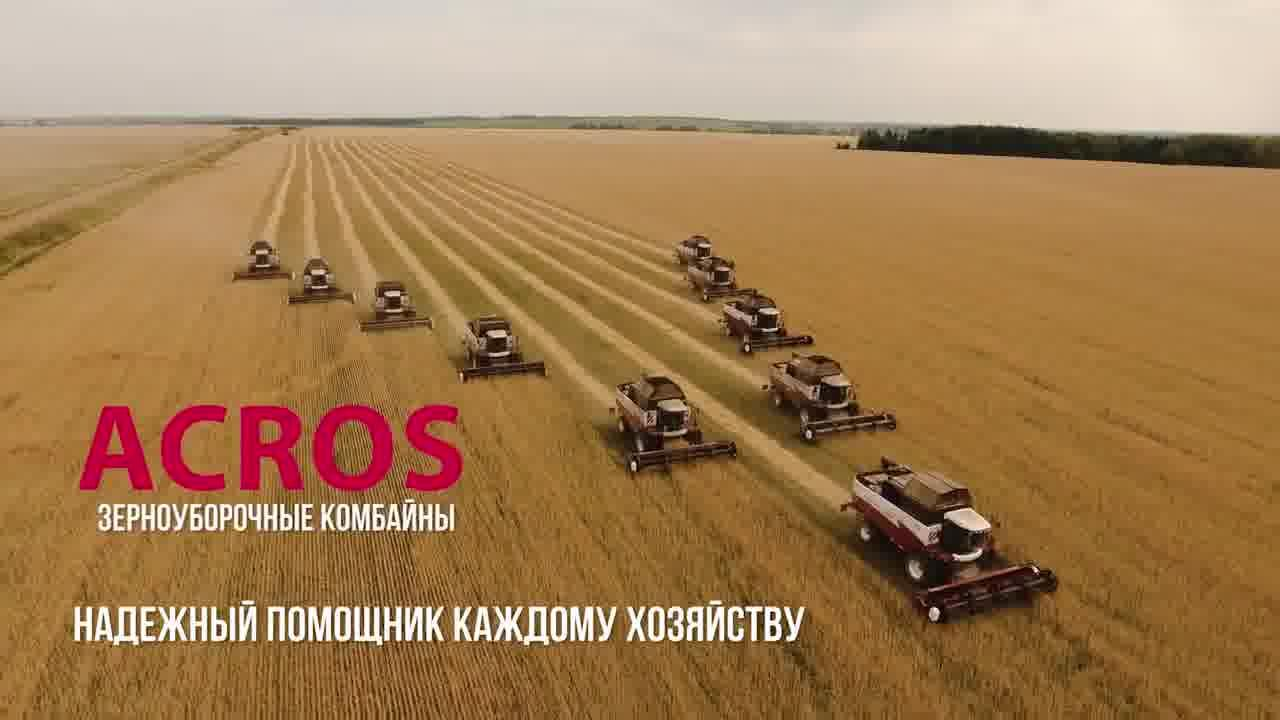combine harvester: (836, 449, 1063, 629), (607, 370, 740, 475), (762, 349, 900, 445), (450, 311, 549, 390), (720, 284, 815, 355), (357, 276, 435, 337), (284, 259, 361, 309), (229, 235, 298, 283), (683, 254, 745, 304), (672, 235, 715, 268)
